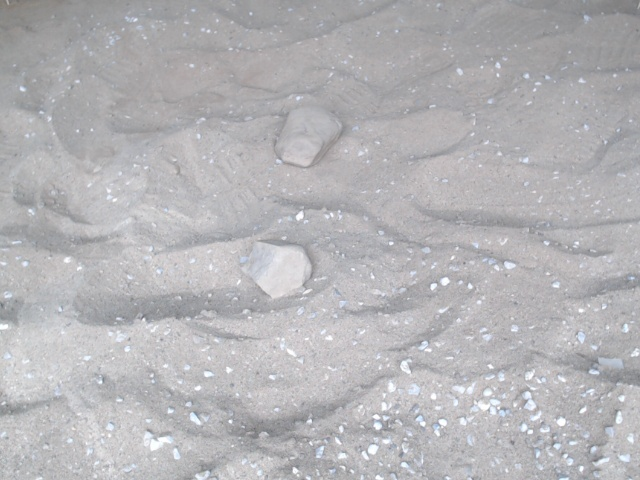rock: (234, 233, 319, 305), (268, 100, 350, 173)
